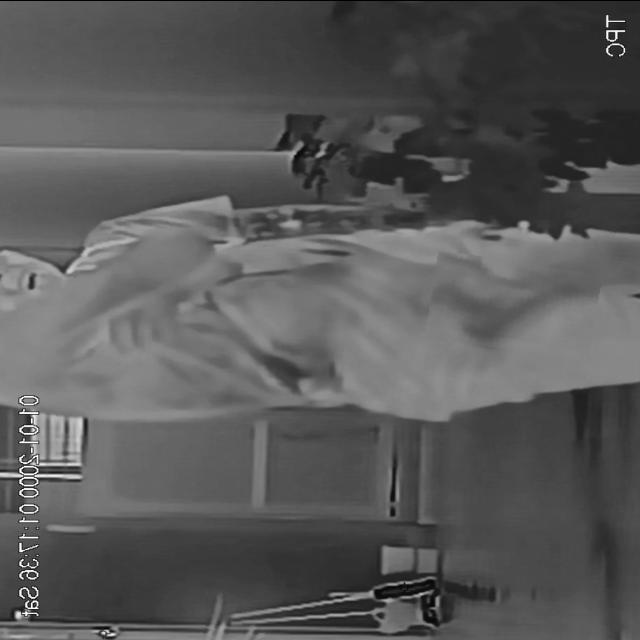Weapon: (428, 256, 600, 356)
